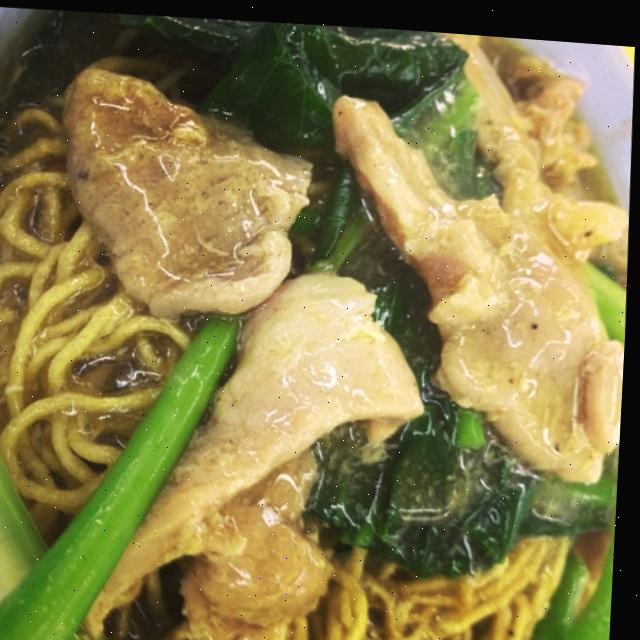面条主食: (0, 22, 622, 640)
